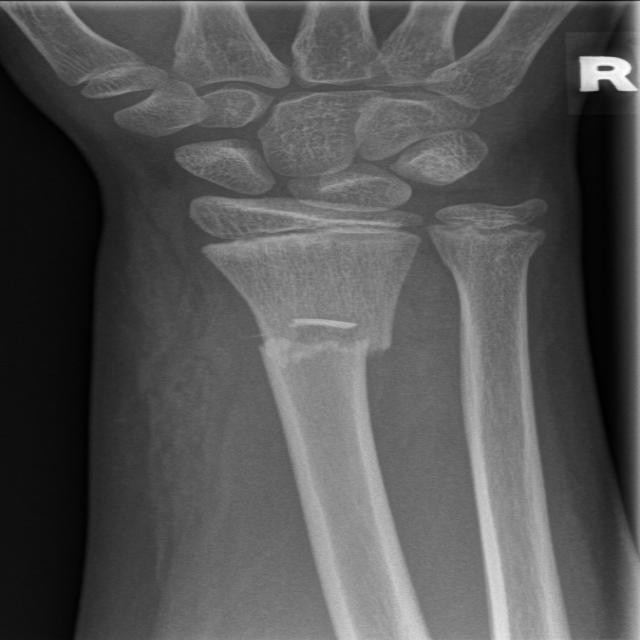radius fracture: (219, 282, 415, 482)
ulna fracture: (420, 184, 581, 324)
